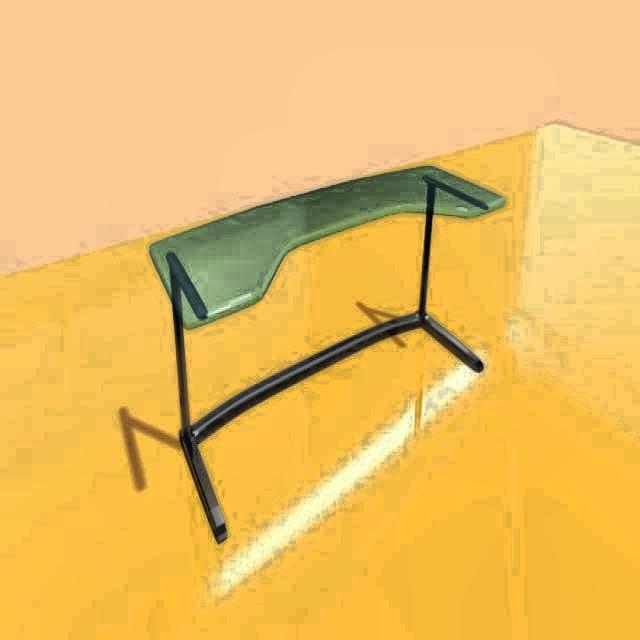mesa: (147, 160, 511, 548)
